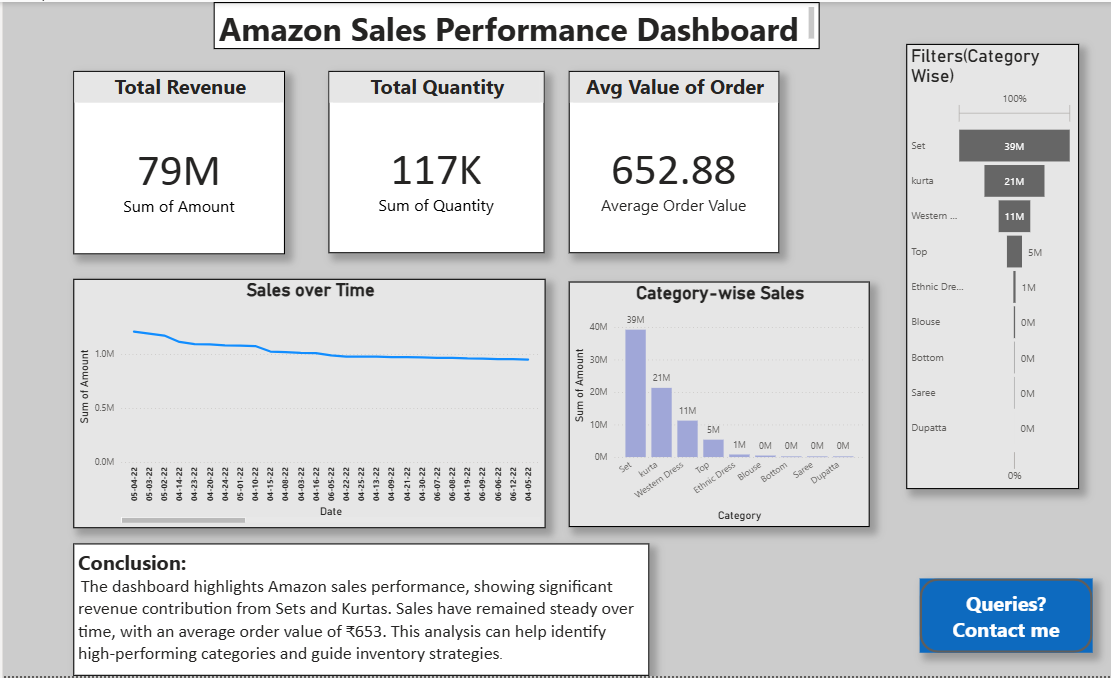

Layout of this report page (visuals, bound fields, positions):
{"tool":"powerbi","page":{"name":"Amazon Sales Performance Dashboard","canvas":[1480,900],"ordinal":5},"visuals":[{"type":"card","title":"Total Revenue","fields":{"Values":["Sum(Amazon Sale Report (2).Amount)"]},"box":[93.8,92,283.1,245.2],"z":0},{"type":"card","title":"Total Quantity","fields":{"Values":["Sum(Amazon Sale Report (2).Qty)"]},"box":[434.6,92,288.5,243.4],"z":1},{"type":"card","title":"Avg Value of Order","fields":{"Values":["Amazon Sale Report (2).Average Order Value"]},"box":[755.6,92,281.3,243.4],"z":2},{"type":"lineChart","title":"Sales over Time","fields":{"Category":["Amazon Sale Report (2).Date"],"Y":["Sum(Amazon Sale Report (2).Amount)"]},"box":[93.8,369.7,631.1,333.6],"z":3},{"type":"clusteredColumnChart","title":"Category-wise Sales","fields":{"Category":["Amazon Sale Report (2).Category"],"Y":["Sum(Amazon Sale Report (2).Amount)"]},"box":[755.6,373.3,402.1,328.2],"z":4},{"type":"funnel","title":"Filters(Category Wise)","fields":{"Y":["Sum(Amazon Sale Report (2).Amount)"],"Category":["Amazon Sale Report (2).Category"]},"box":[1206.4,55.9,230.8,595.1],"z":5},{"type":"textbox","box":[93.8,723.1,770,176.7],"z":6},{"type":"actionButton","box":[1224.4,770,230.8,99.2],"z":7},{"type":"textbox","box":[281.3,0,809.7,63.1],"z":8}]}

Visuals, with their boxes in screenshot pixels (x1, y1, x2, y2), scaled from the page's 1480x900 canvas onto the 1111x678 screenshot:
"Total Revenue" card: box=[70, 69, 283, 254]
"Total Quantity" card: box=[326, 69, 543, 253]
"Avg Value of Order" card: box=[567, 69, 778, 253]
"Sales over Time" lineChart: box=[70, 279, 544, 530]
"Category-wise Sales" clusteredColumnChart: box=[567, 281, 869, 528]
"Filters(Category Wise)" funnel: box=[906, 42, 1079, 490]
textbox: box=[70, 545, 648, 677]
actionButton: box=[919, 580, 1092, 655]
textbox: box=[211, 0, 819, 48]
